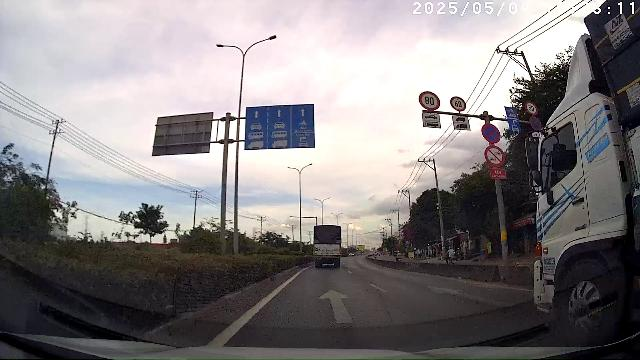127-toc-do-toi-da-50: (526, 100, 538, 115)
127-toc-do-toi-da-60: (449, 95, 467, 111)
127-toc-do-toi-da-80: (418, 90, 442, 110)
130-cam-dung-va-do-xe: (481, 123, 501, 143)
